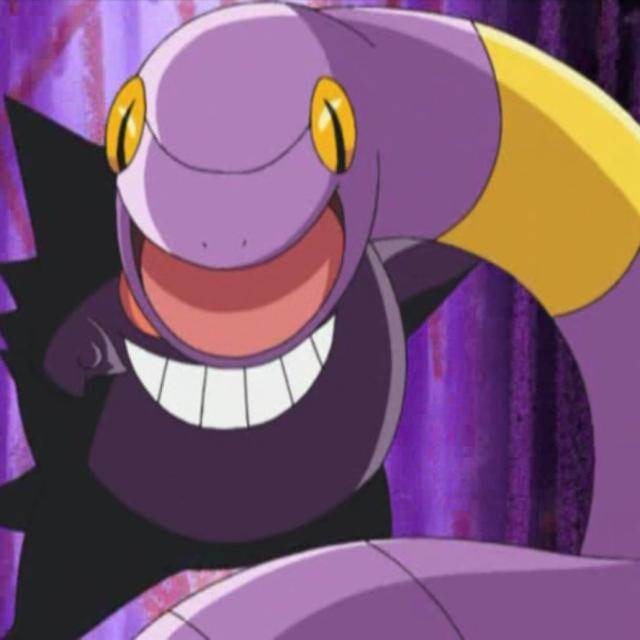Ekans: (120, 0, 640, 367)
Gengar: (4, 96, 407, 566)
